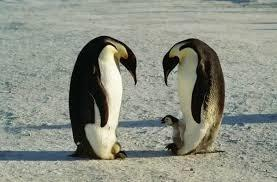emporer: (63, 32, 144, 165), (154, 34, 230, 159)
